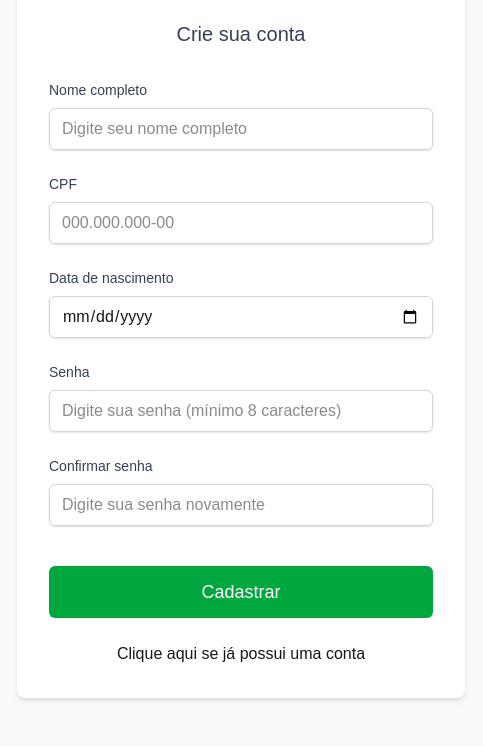
Register Component › should validate empty fields
(page scrolled)
Click the button "Cadastrar" at (241, 592), box 49,566 -> 433,618
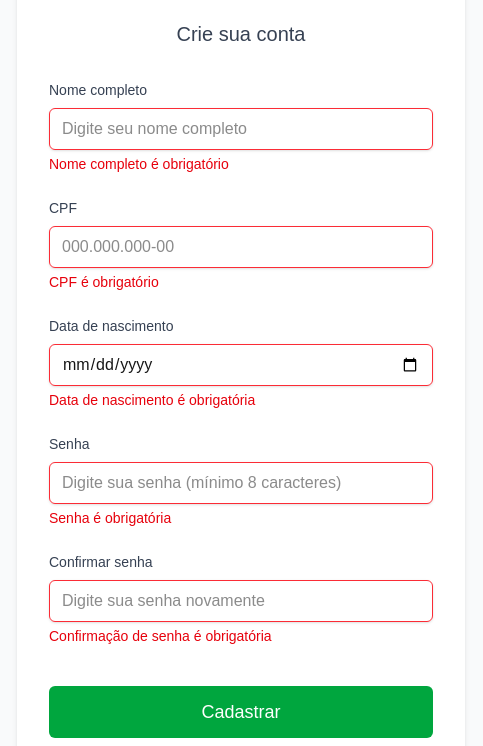
Now the text "Nome completo é obrigatório" is shown, box 49,156 -> 229,172
Now the text "CPF é obrigatório" is shown, box 49,274 -> 159,290
Now the text "Data de nascimento é obrigatória" is shown, box 49,392 -> 255,408
